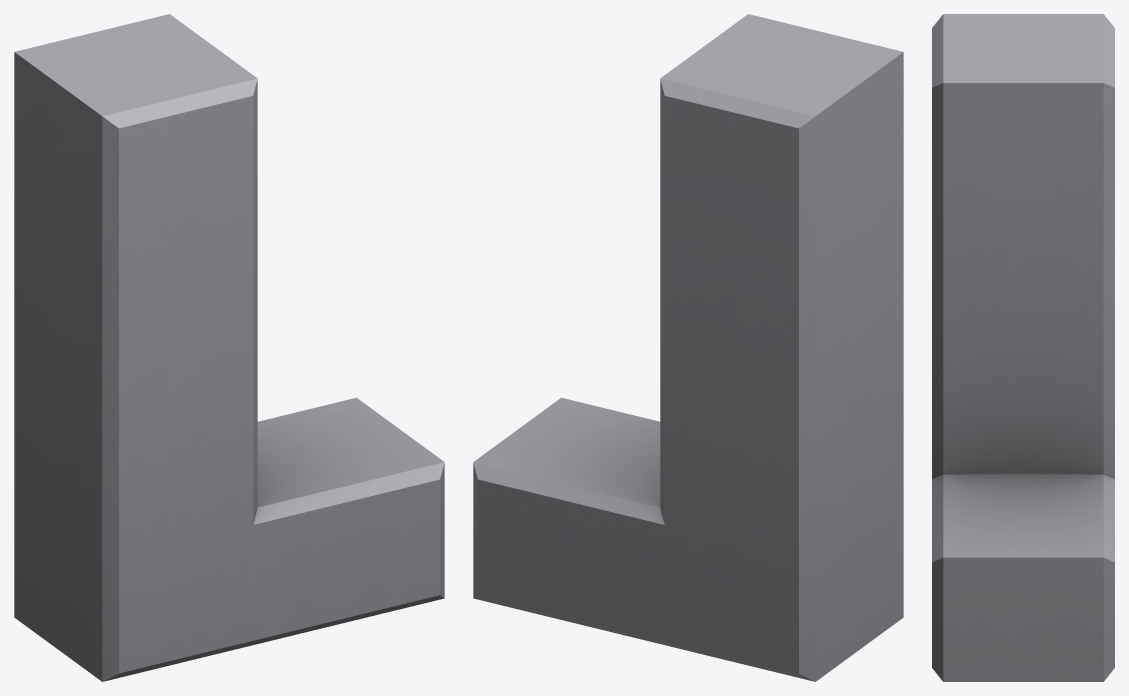
The model's file is L_static.fbx.
The picture shows the model from 3 angles, left to right: view 1: azimuth 30°, elevation 25°; view 2: azimuth 150°, elevation 25°; view 3: azimuth 270°, elevation 25°; orthographic projection. The views are drawn at different scales.
Visible parts, largest first — view 1: L_static; view 2: L_static; view 3: L_static.
Boxes of the visible parts, left/top/right/bottom form: L_static: left=14, top=14, right=444, bottom=681; L_static: left=473, top=14, right=903, bottom=681; L_static: left=932, top=14, right=1114, bottom=681.
Size of the model in its own units: 65.09 by 103 by 33.
